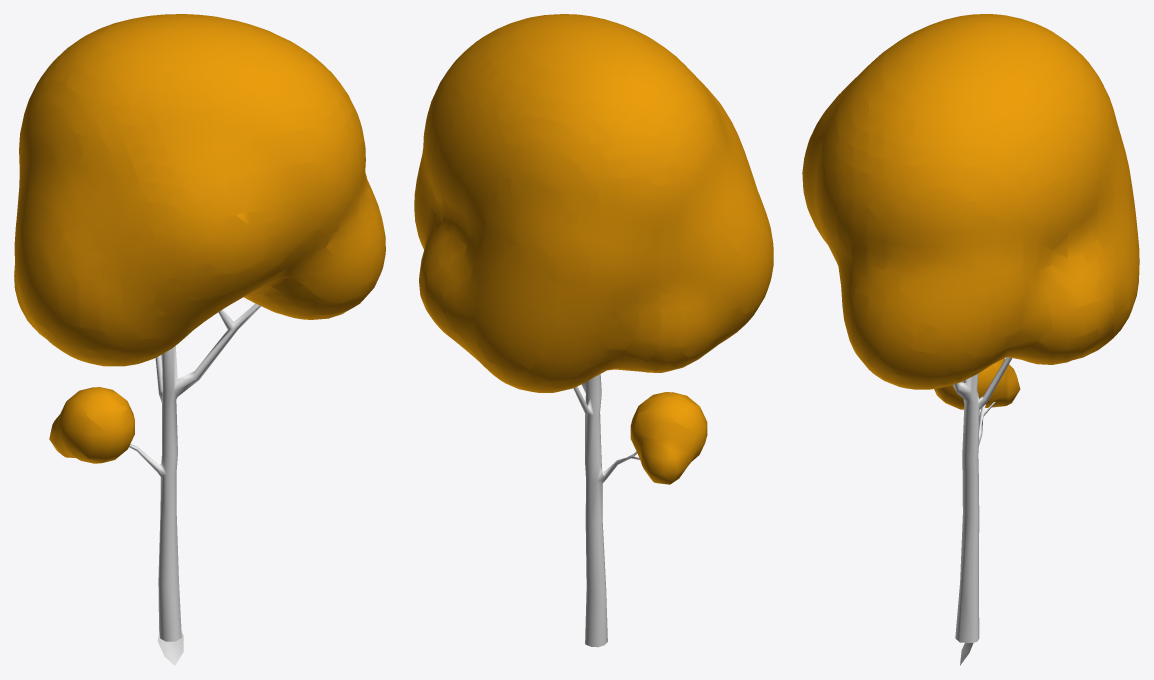
Rendered from tree.glb.
3 renders of one model, left to right at view 1: azimuth 30°, elevation 25°; view 2: azimuth 150°, elevation 25°; view 3: azimuth 270°, elevation 25°, orthographic.
Visible parts, largest first — view 1: Leaves, Pole; view 2: Leaves, Pole; view 3: Leaves, Pole.
Boxes of the visible parts, <box> form: Leaves: <box>14,14,385,463</box>; Pole: <box>129,303,261,641</box>; Leaves: <box>414,14,773,484</box>; Pole: <box>573,374,639,647</box>; Leaves: <box>802,14,1139,409</box>; Pole: <box>953,357,1012,642</box>.
Size of the model in its own units: 2.64 by 4.75 by 2.28.
